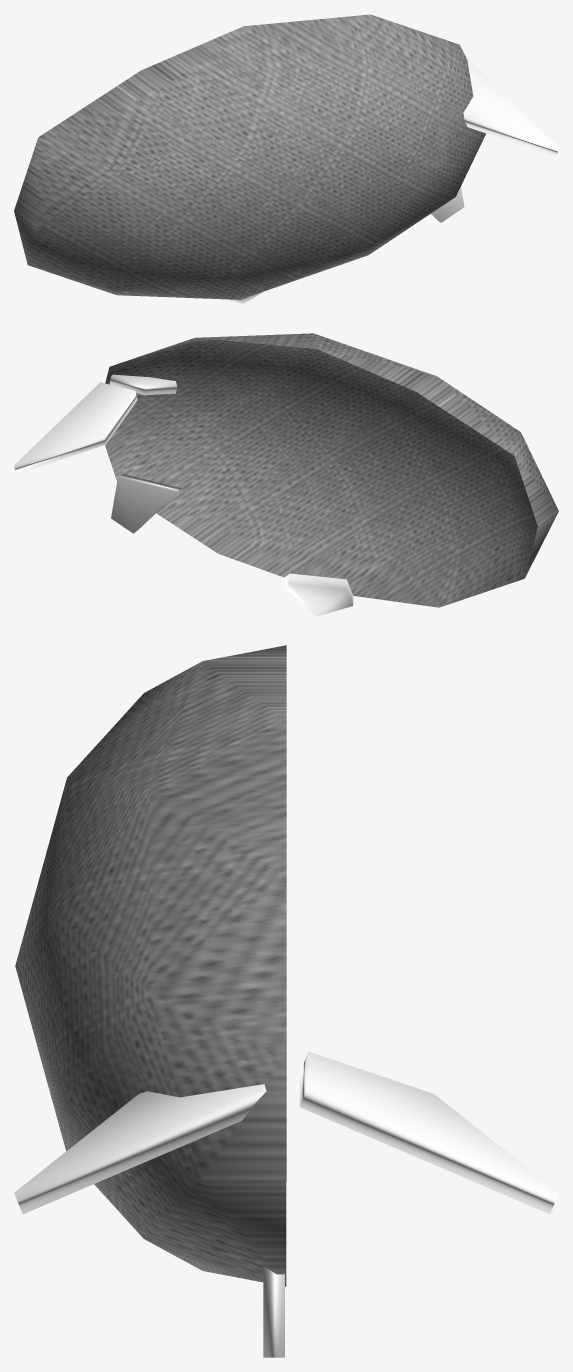
File: G_Background_Blimp.fbx
3 views of the same model, one above another, from view 1: azimuth 30°, elevation 25°; view 2: azimuth 150°, elevation 25°; view 3: azimuth 270°, elevation 25° (orthographic). The views are drawn at different scales.
Parts seen in each view (by area): view 1: G_Midground_Blimp; view 2: G_Midground_Blimp; view 3: G_Midground_Blimp.
Part boxes in pixels (bbox=[...]): G_Midground_Blimp: bbox=[14, 14, 558, 304]; G_Midground_Blimp: bbox=[14, 333, 558, 616]; G_Midground_Blimp: bbox=[14, 645, 558, 1357].
Size of the model in its own units: 1558 by 875 by 813.
